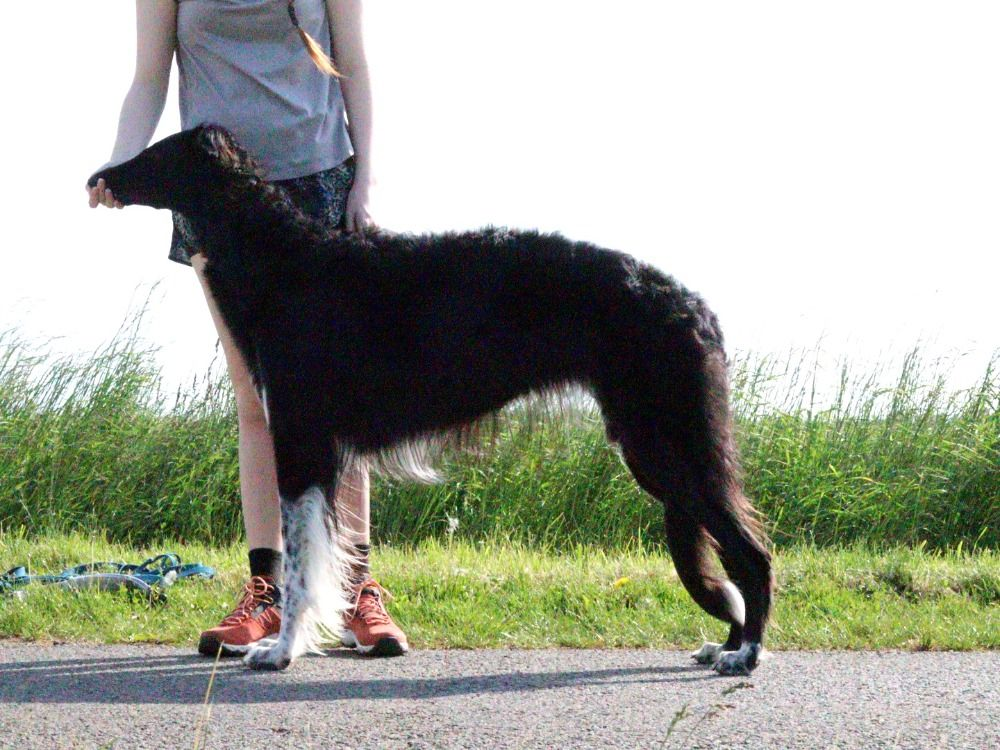borzoi: (67, 117, 793, 670)
